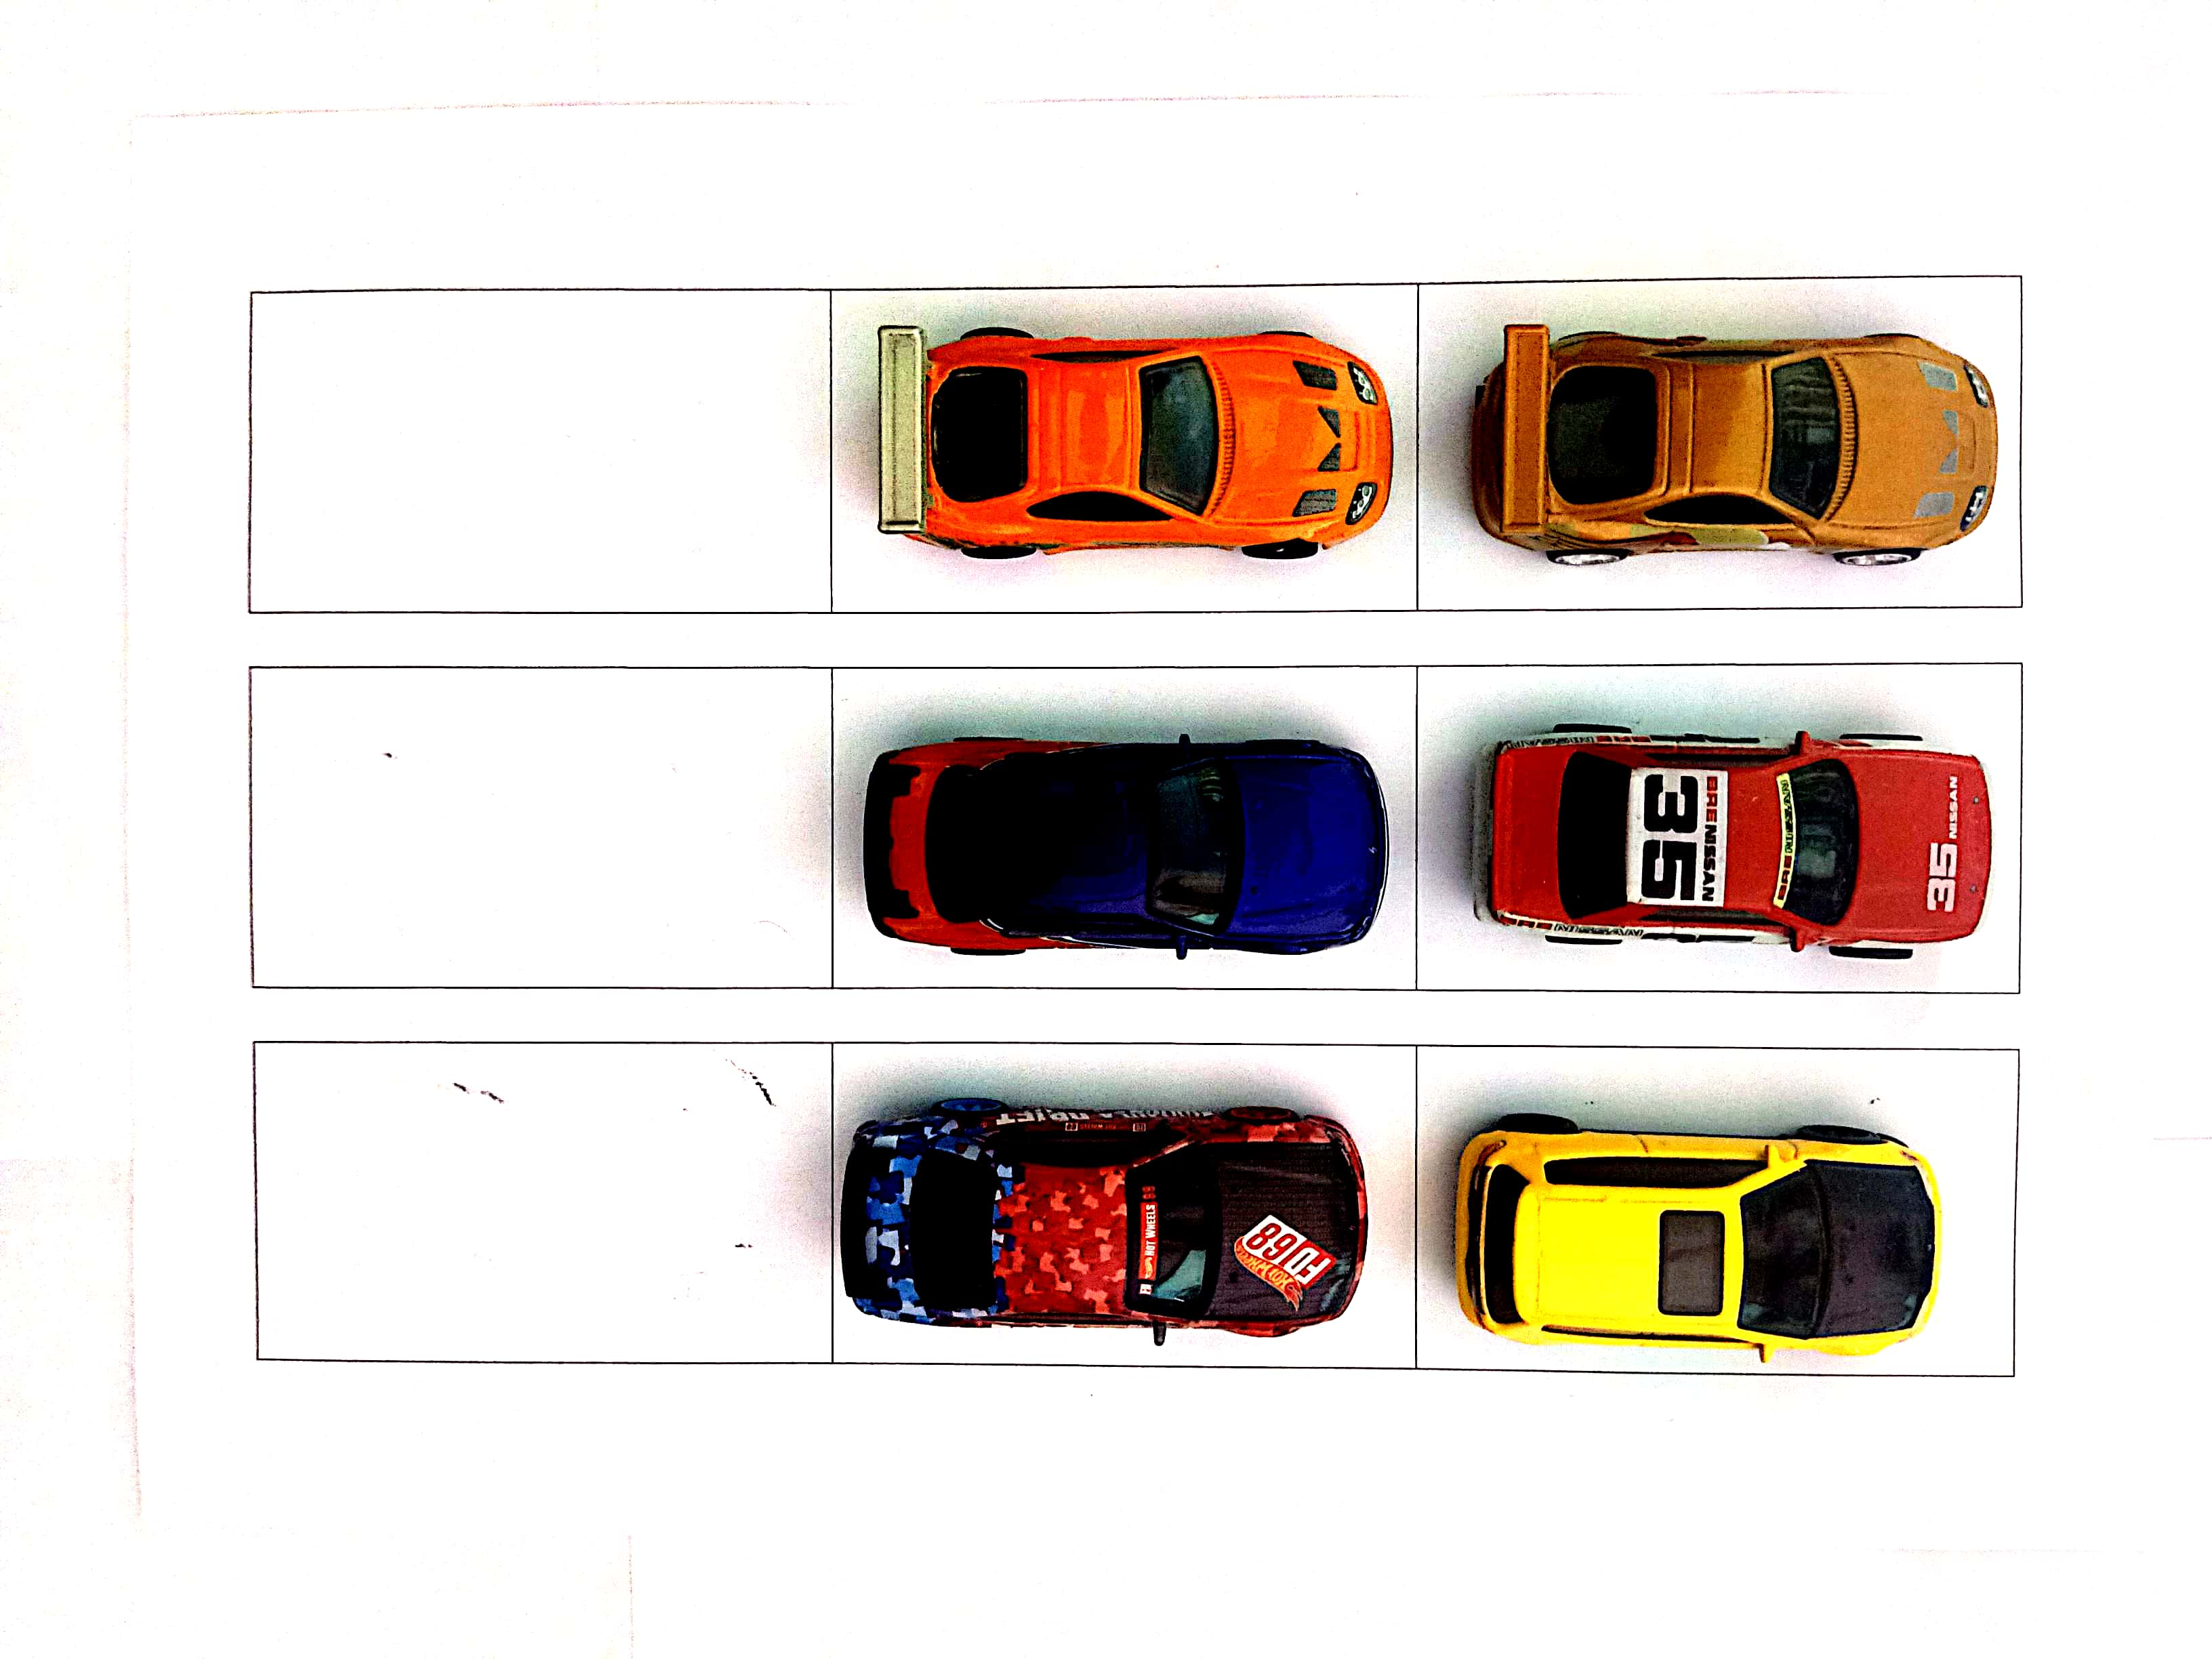Busy: (1414, 667, 2024, 999), (1420, 284, 2020, 606), (826, 293, 1418, 606), (1414, 1053, 2012, 1363), (838, 667, 1414, 986), (834, 1049, 1411, 1358)
Free: (254, 1037, 834, 1363), (247, 664, 834, 981), (251, 293, 826, 610)
